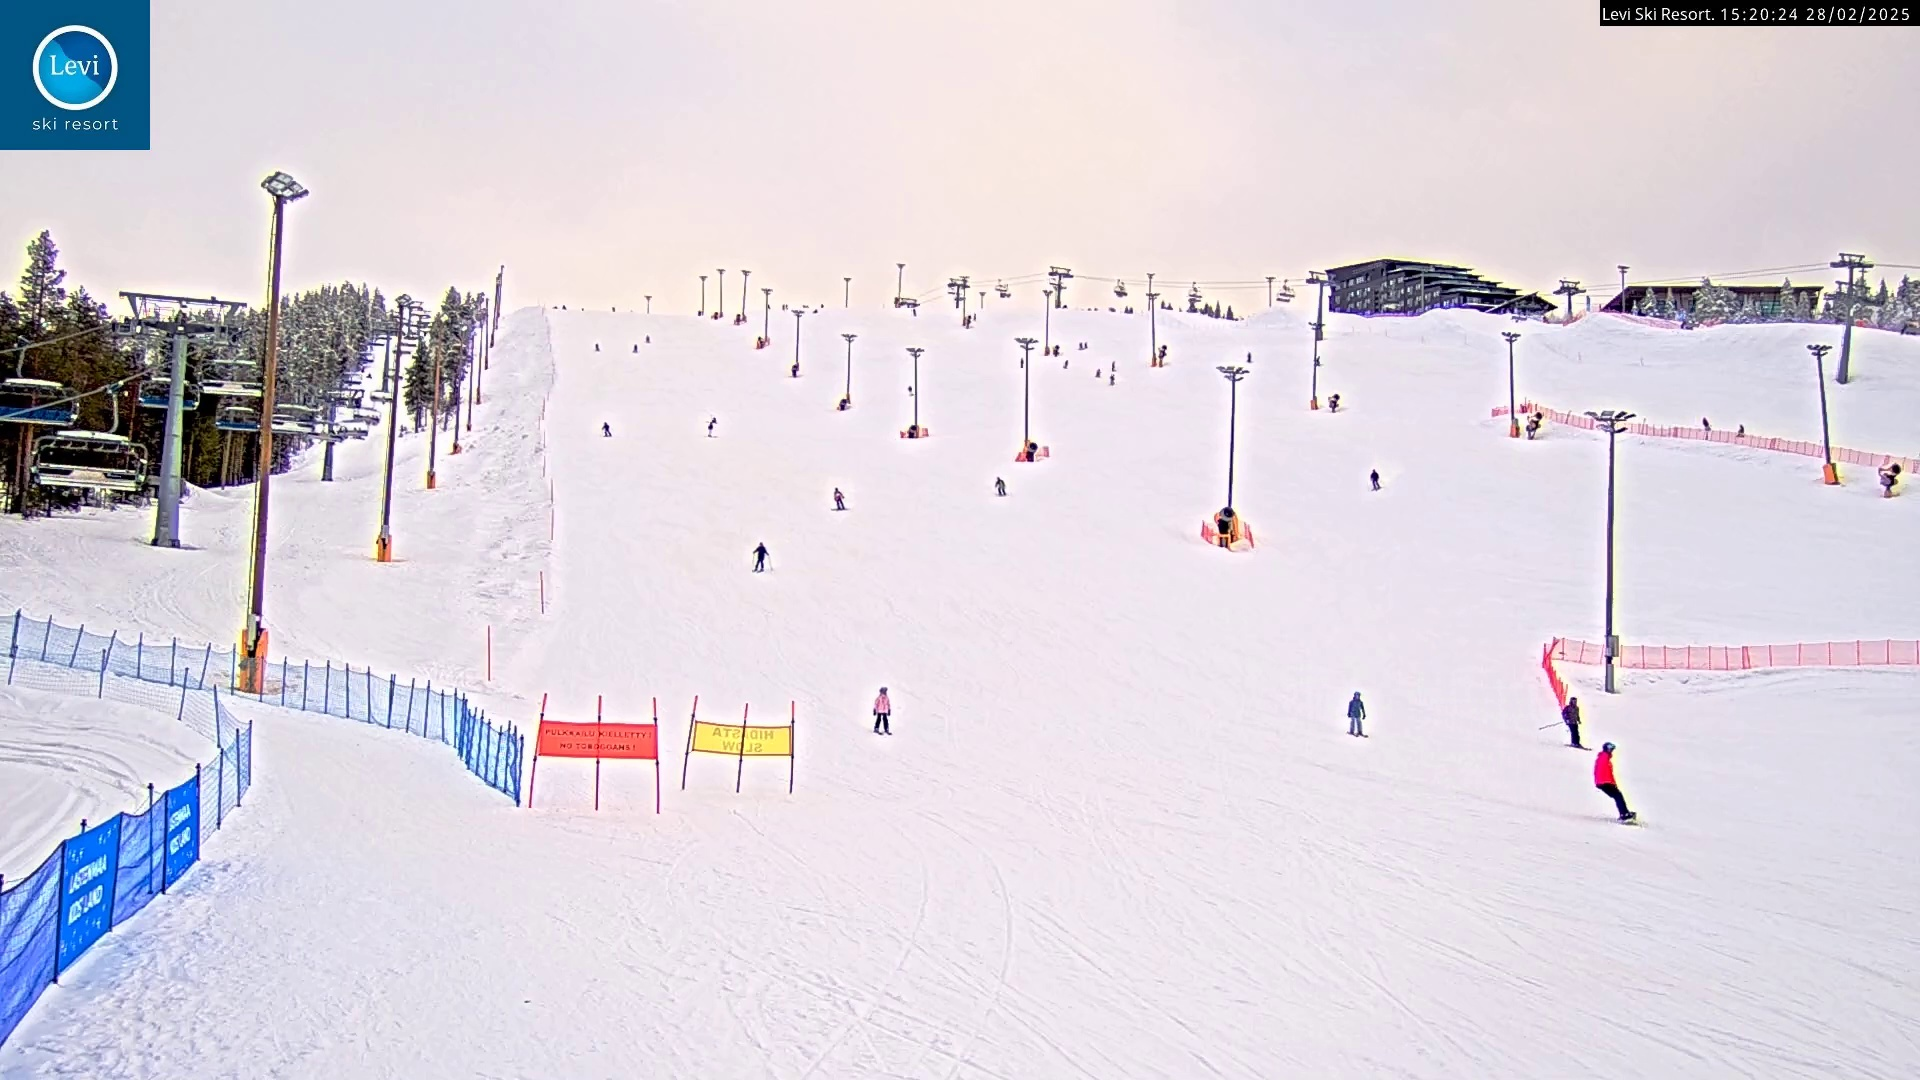skier: (1555, 688, 1590, 753), (1341, 688, 1369, 736)
snowboarder: (1593, 742, 1639, 827)
